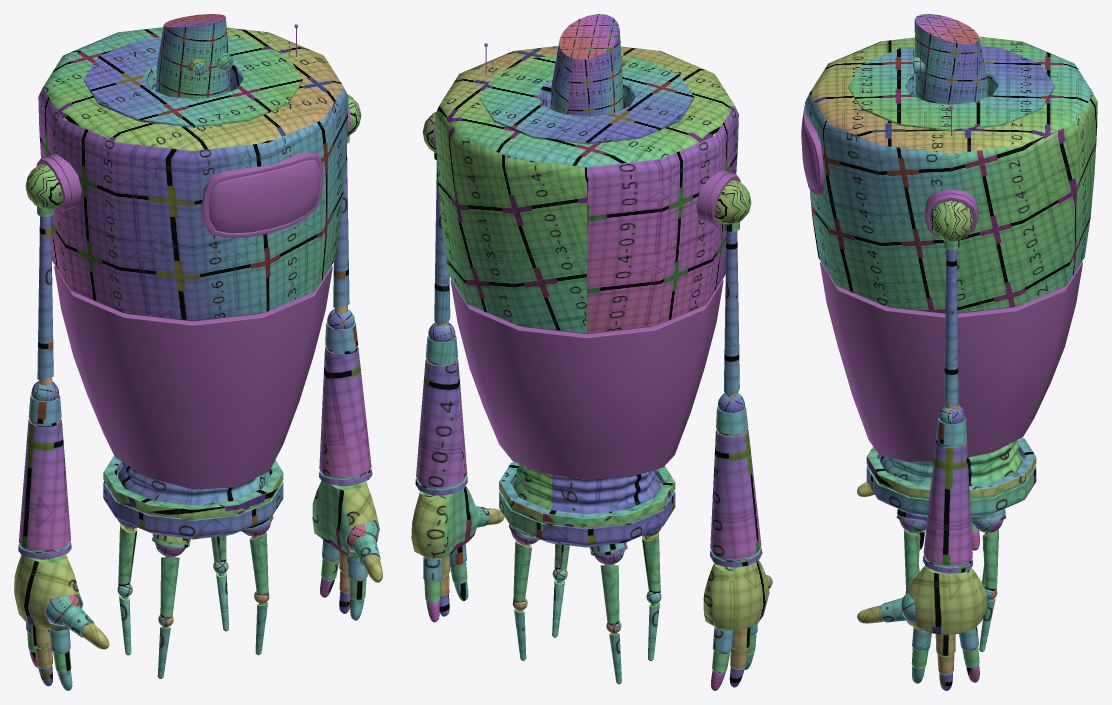
Rendered from ROBOUV.fbx.
3 views of the same model, side by side, from view 1: azimuth 30°, elevation 25°; view 2: azimuth 150°, elevation 25°; view 3: azimuth 270°, elevation 25° (orthographic). The views are drawn at different scales.
Visible parts, largest first — view 1: RobotA_UV_Start:Torso_Geo, RobotA_UV_Start:R_Elbow_Geo, RobotA_UV_Start:Hip_Geo, RobotA_UV_Start:L_Elbow_Geo, RobotA_UV_Start:Head_Geo, RobotA_UV_Start:R_Shoulder_Geo, RobotA_UV_Start:R_Hand_Geo, RobotA_UV_Start:L_Hand_Geo, RobotA_UV_Start:Spine_Geo, RobotA_UV_Start:L_Shoulder_Geo, RobotA_UV_Start:R_FT_Thigh_Geo, RobotA_UV_Start:R_Finger_01_Joint_01_Geo (+7 smaller); view 2: RobotA_UV_Start:Torso_Geo, RobotA_UV_Start:Hip_Geo, RobotA_UV_Start:R_Elbow_Geo, RobotA_UV_Start:L_Elbow_Geo, RobotA_UV_Start:Head_Geo, RobotA_UV_Start:Spine_Geo, RobotA_UV_Start:R_Hand_Geo, RobotA_UV_Start:L_Hand_Geo, RobotA_UV_Start:R_Shoulder_Geo, RobotA_UV_Start:L_Shoulder_Geo, RobotA_UV_Start:R_BK_Thigh_Geo, RobotA_UV_Start:L_BK_Thigh_Geo (+5 smaller); view 3: RobotA_UV_Start:Torso_Geo, RobotA_UV_Start:L_Elbow_Geo, RobotA_UV_Start:Head_Geo, RobotA_UV_Start:Hip_Geo, RobotA_UV_Start:L_Hand_Geo, RobotA_UV_Start:L_Shoulder_Geo, RobotA_UV_Start:Spine_Geo, RobotA_UV_Start:L_BK_Thigh_Geo, RobotA_UV_Start:L_FT_Thigh_Geo, RobotA_UV_Start:L_Finger_01_Joint_01_Geo, RobotA_UV_Start:L_BK_Knee_Geo.
Boxes of the visible parts, bbox=[...] form: RobotA_UV_Start:Torso_Geo: bbox=[36, 24, 350, 489]; RobotA_UV_Start:R_Elbow_Geo: bbox=[18, 381, 71, 558]; RobotA_UV_Start:Hip_Geo: bbox=[103, 456, 283, 547]; RobotA_UV_Start:L_Elbow_Geo: bbox=[319, 309, 372, 485]; RobotA_UV_Start:Head_Geo: bbox=[155, 14, 233, 99]; RobotA_UV_Start:R_Shoulder_Geo: bbox=[25, 164, 62, 385]; RobotA_UV_Start:R_Hand_Geo: bbox=[14, 554, 83, 629]; RobotA_UV_Start:L_Hand_Geo: bbox=[312, 481, 379, 556]; RobotA_UV_Start:Spine_Geo: bbox=[118, 461, 268, 505]; RobotA_UV_Start:L_Shoulder_Geo: bbox=[333, 94, 361, 313]; RobotA_UV_Start:R_FT_Thigh_Geo: bbox=[155, 543, 185, 618]; RobotA_UV_Start:R_Finger_01_Joint_01_Geo: bbox=[45, 594, 94, 637]; RobotA_UV_Start:Torso_Geo: bbox=[433, 43, 740, 479]; RobotA_UV_Start:Hip_Geo: bbox=[499, 462, 675, 555]; RobotA_UV_Start:R_Elbow_Geo: bbox=[710, 393, 762, 567]; RobotA_UV_Start:L_Elbow_Geo: bbox=[415, 322, 467, 495]; RobotA_UV_Start:Head_Geo: bbox=[550, 14, 626, 116]; RobotA_UV_Start:Spine_Geo: bbox=[513, 464, 660, 514]; RobotA_UV_Start:R_Hand_Geo: bbox=[703, 560, 769, 630]; RobotA_UV_Start:L_Hand_Geo: bbox=[411, 486, 478, 558]; RobotA_UV_Start:R_Shoulder_Geo: bbox=[715, 180, 751, 396]; RobotA_UV_Start:L_Shoulder_Geo: bbox=[422, 112, 450, 325]; RobotA_UV_Start:R_BK_Thigh_Geo: bbox=[594, 551, 624, 625]; RobotA_UV_Start:L_BK_Thigh_Geo: bbox=[511, 531, 538, 602]; RobotA_UV_Start:Torso_Geo: bbox=[801, 36, 1097, 462]; RobotA_UV_Start:L_Elbow_Geo: bbox=[922, 405, 972, 573]; RobotA_UV_Start:Head_Geo: bbox=[913, 14, 988, 104]; RobotA_UV_Start:Hip_Geo: bbox=[866, 437, 1036, 523]; RobotA_UV_Start:L_Hand_Geo: bbox=[907, 565, 987, 635]; RobotA_UV_Start:L_Shoulder_Geo: bbox=[930, 200, 972, 408]; RobotA_UV_Start:Spine_Geo: bbox=[880, 440, 1022, 485]; RobotA_UV_Start:L_BK_Thigh_Geo: bbox=[974, 520, 1003, 590]; RobotA_UV_Start:L_FT_Thigh_Geo: bbox=[899, 520, 926, 590]; RobotA_UV_Start:L_Finger_01_Joint_01_Geo: bbox=[881, 592, 916, 622]; RobotA_UV_Start:L_BK_Knee_Geo: bbox=[979, 587, 997, 651].
Bounding box in the file's own units: 9.14 × 16.07 × 7.09.
